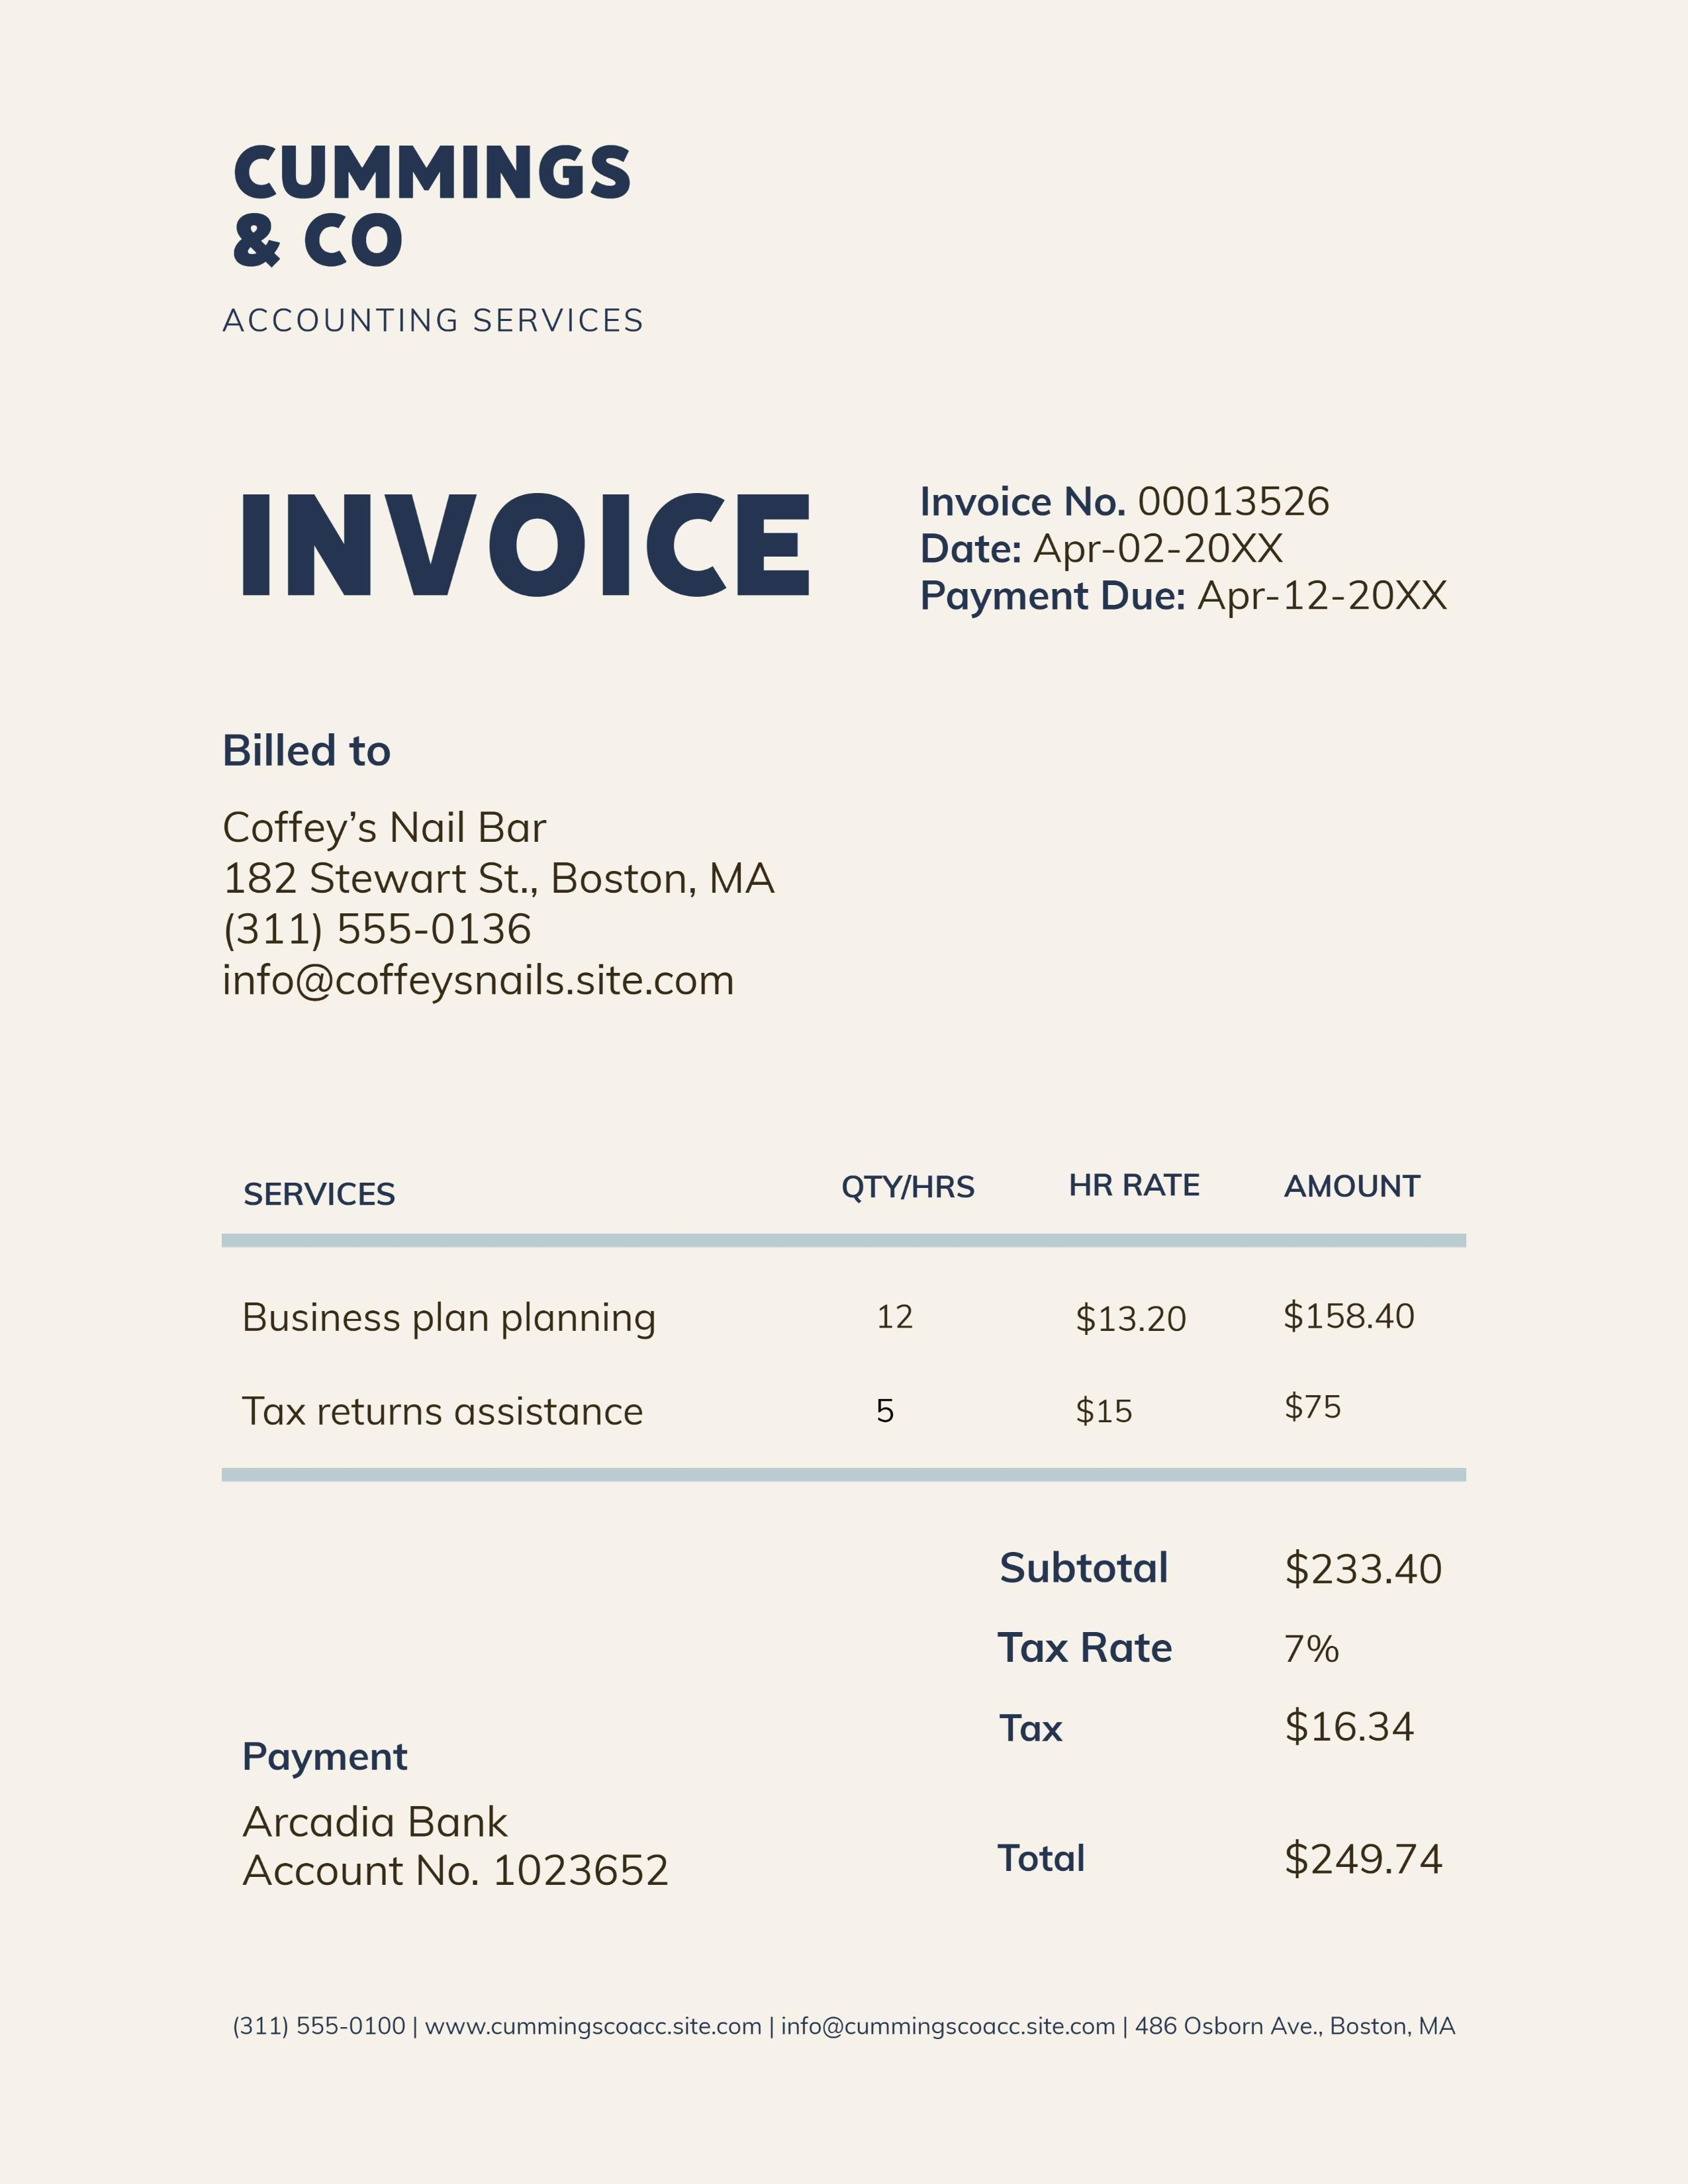ROI: (213, 1176, 1454, 1480), (214, 739, 788, 1033), (980, 1527, 1453, 1871), (208, 134, 692, 347), (223, 1726, 690, 1908), (908, 482, 1453, 624)
